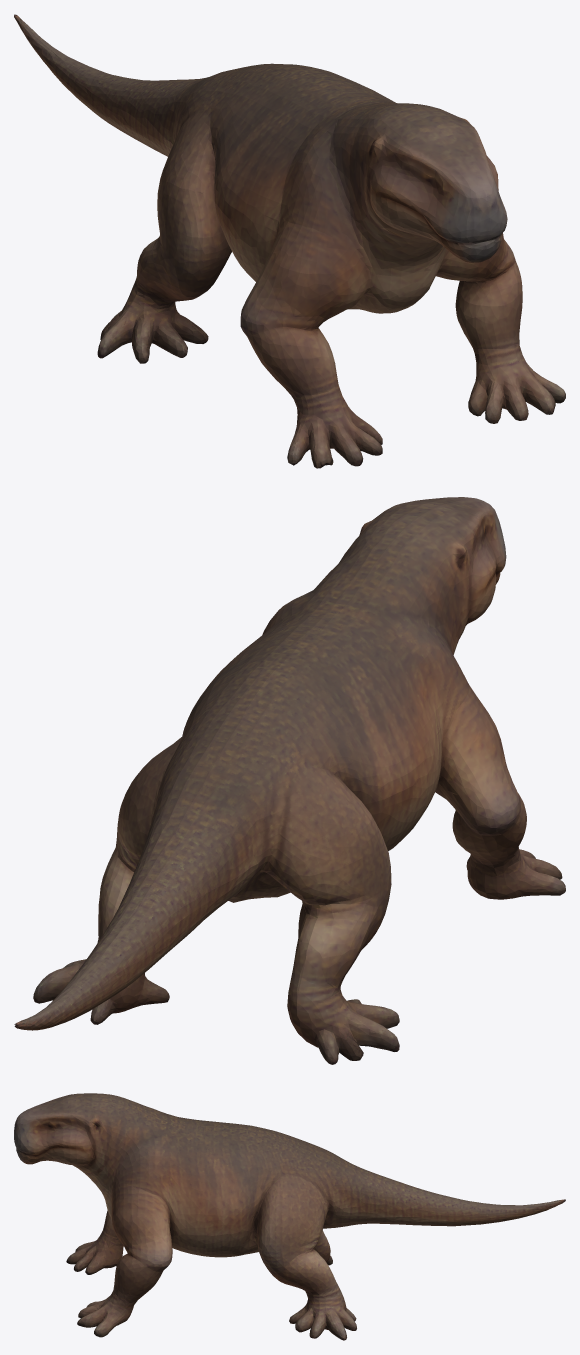
The picture shows the model from 3 angles, top to bottom: view 1: azimuth 30°, elevation 25°; view 2: azimuth 150°, elevation 25°; view 3: azimuth 270°, elevation 25°; orthographic projection. The views are drawn at different scales.
Visible parts, largest first — view 1: world; view 2: world; view 3: world.
Boxes of the visible parts, x1,y1,x2,y2 form: world: [14, 14, 565, 468]; world: [14, 497, 565, 1064]; world: [14, 1093, 565, 1340].
Size of the model in its own units: 0.689 by 0.7254 by 1.8.
Materials: 1 (1 with a texture image).
